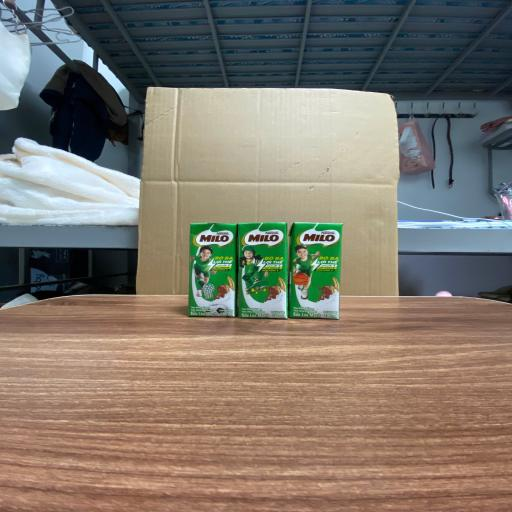milo: (291, 222, 344, 318), (238, 222, 288, 318), (188, 223, 237, 316)
